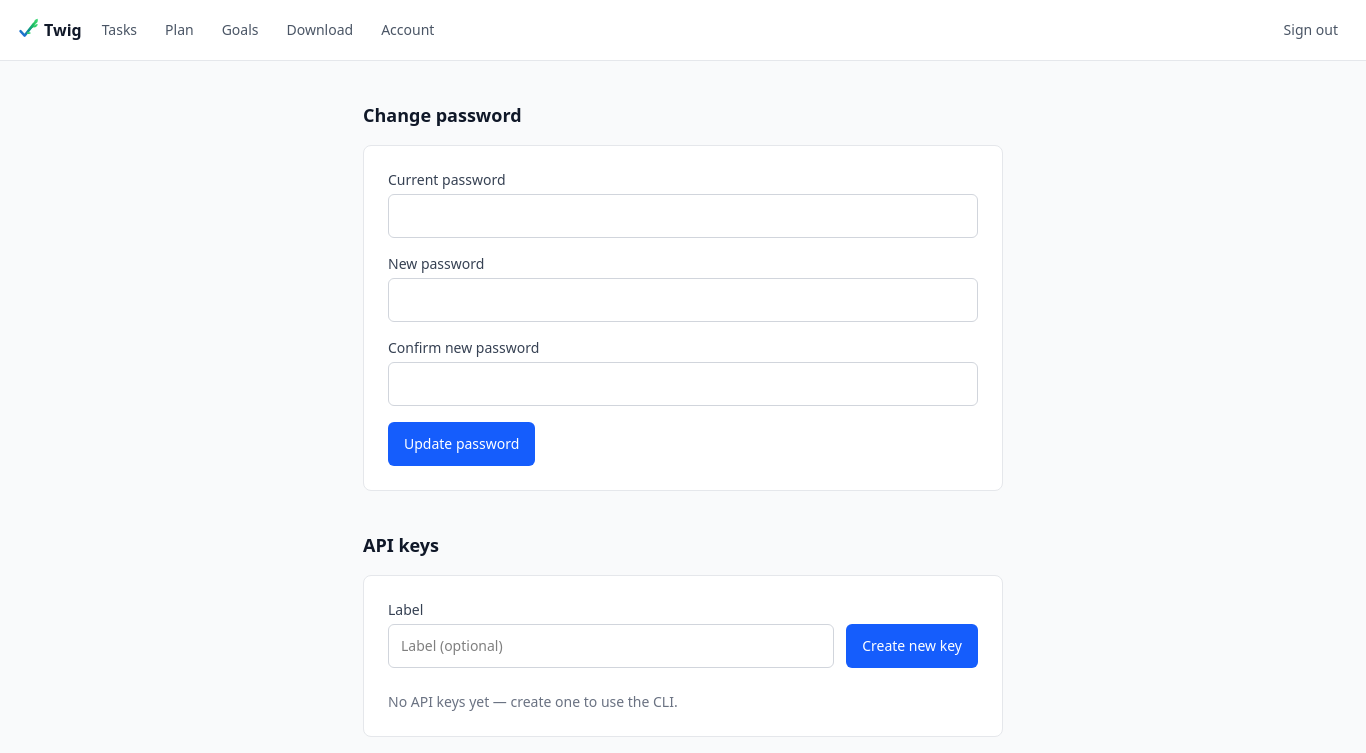
Test case: AccountPage — password change (US1) › shows error when new password is under 8 characters
Type "oldpass" into the password field labelled "Current password" at coordinates (683, 216), box x1=388 y1=194 x2=978 y2=238
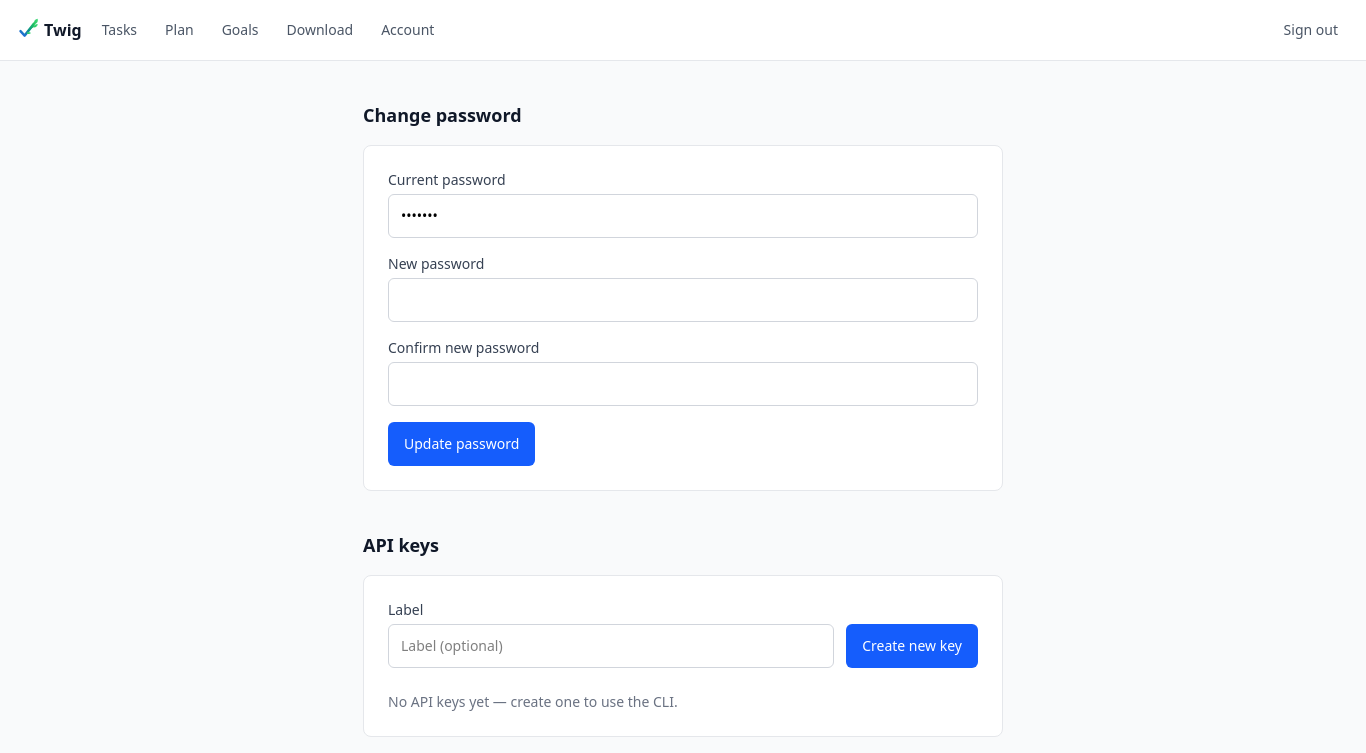
Type "short" into the password field labelled "New password" at coordinates (683, 300), box x1=388 y1=278 x2=978 y2=322
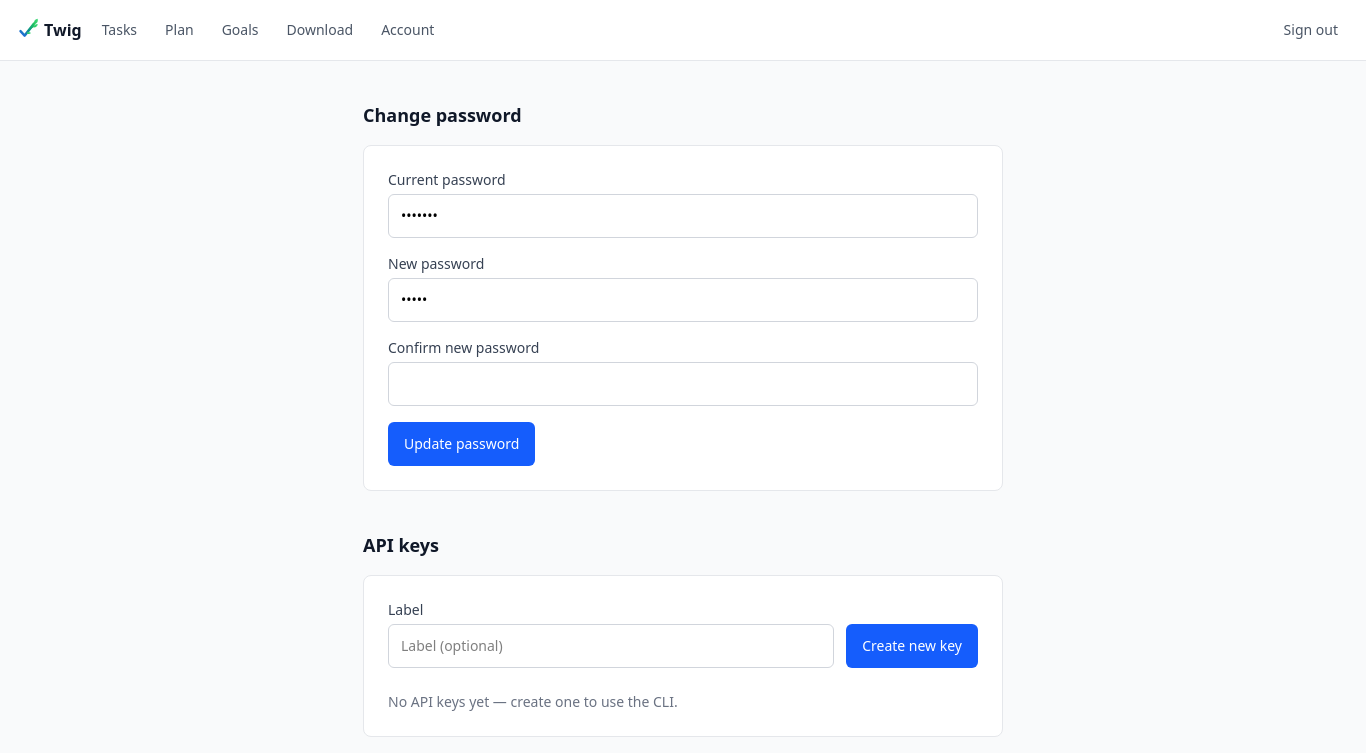
Type "short" into the password field labelled "Confirm new password" at coordinates (683, 384), box x1=388 y1=362 x2=978 y2=406
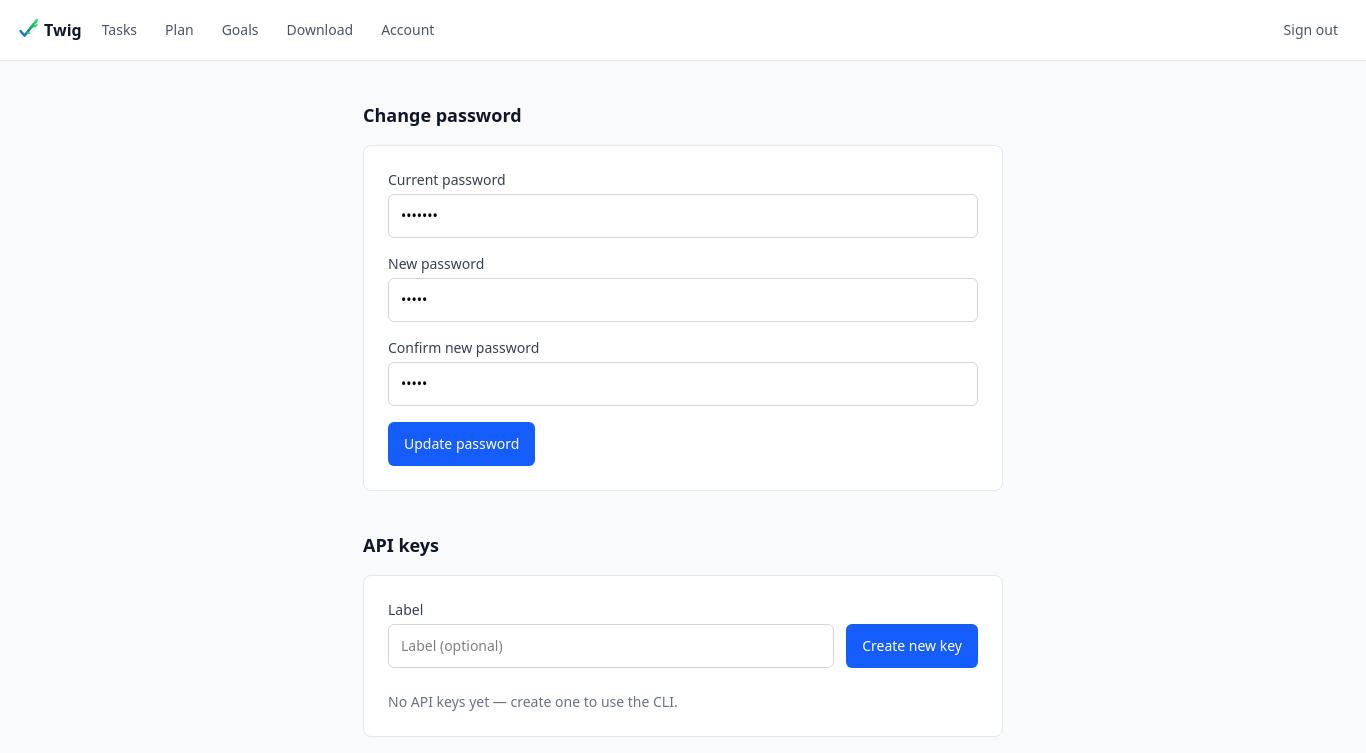
Click the button "Update password" at coordinates (462, 444), box x1=388 y1=422 x2=535 y2=466
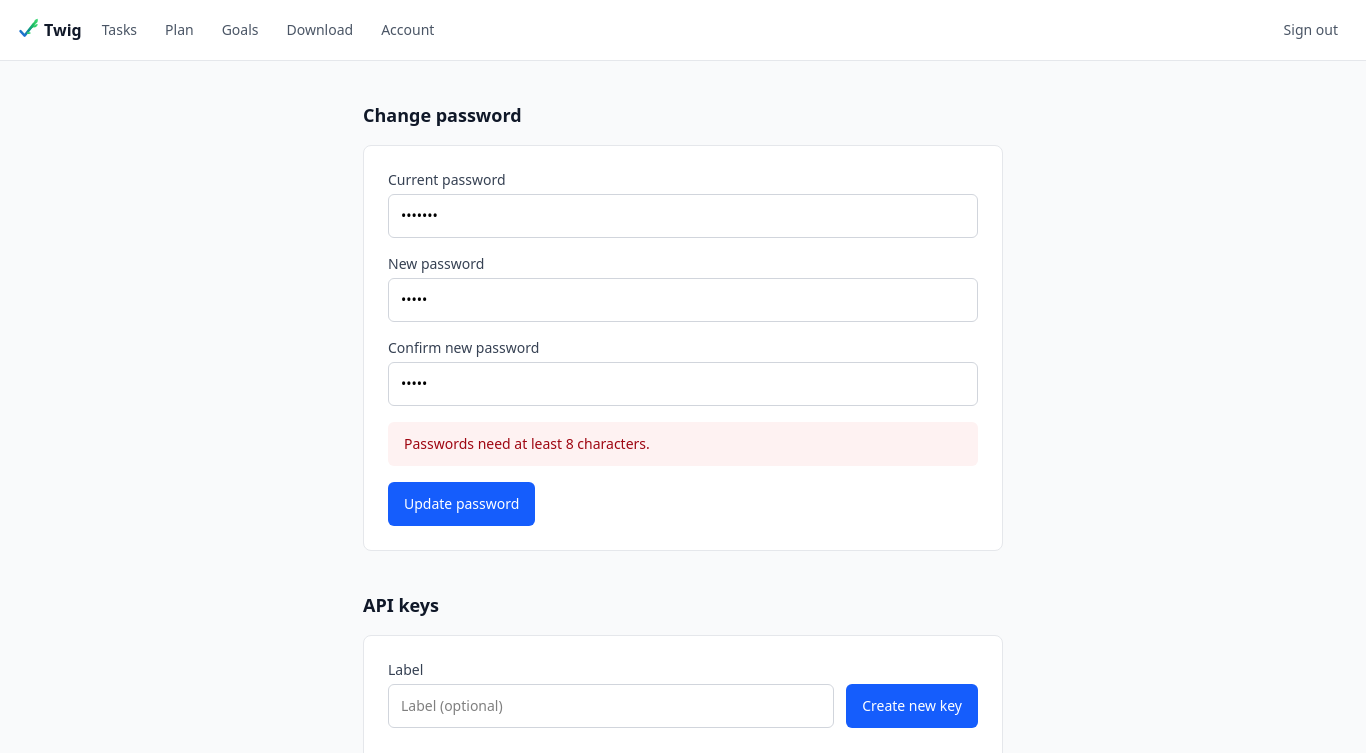
Now the message reads "Passwords need at least 8 characters.", box x1=404 y1=434 x2=650 y2=453
